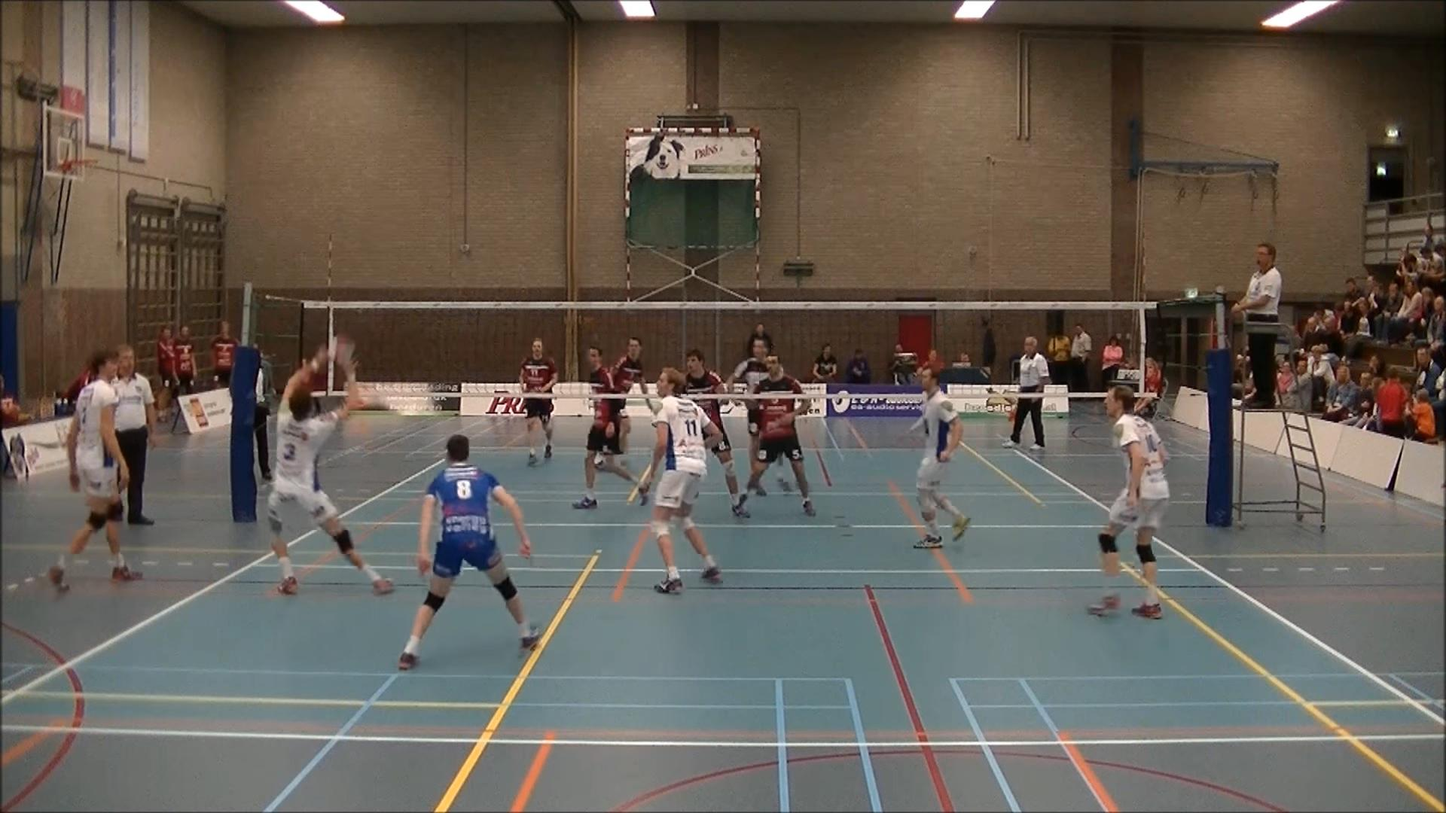ricezione: (257, 348, 401, 603)
